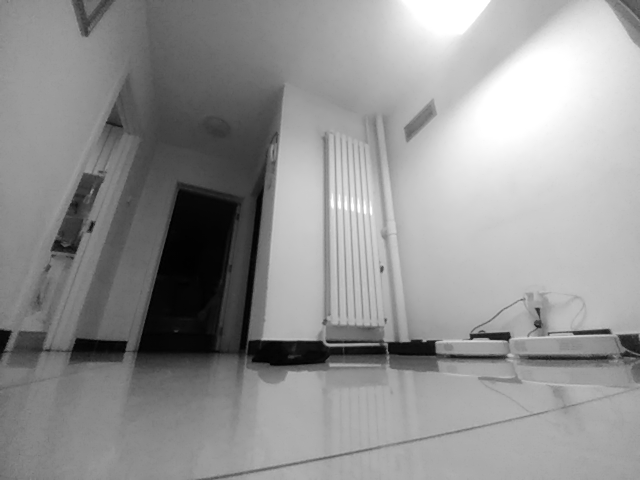others: (251, 342, 332, 367)
